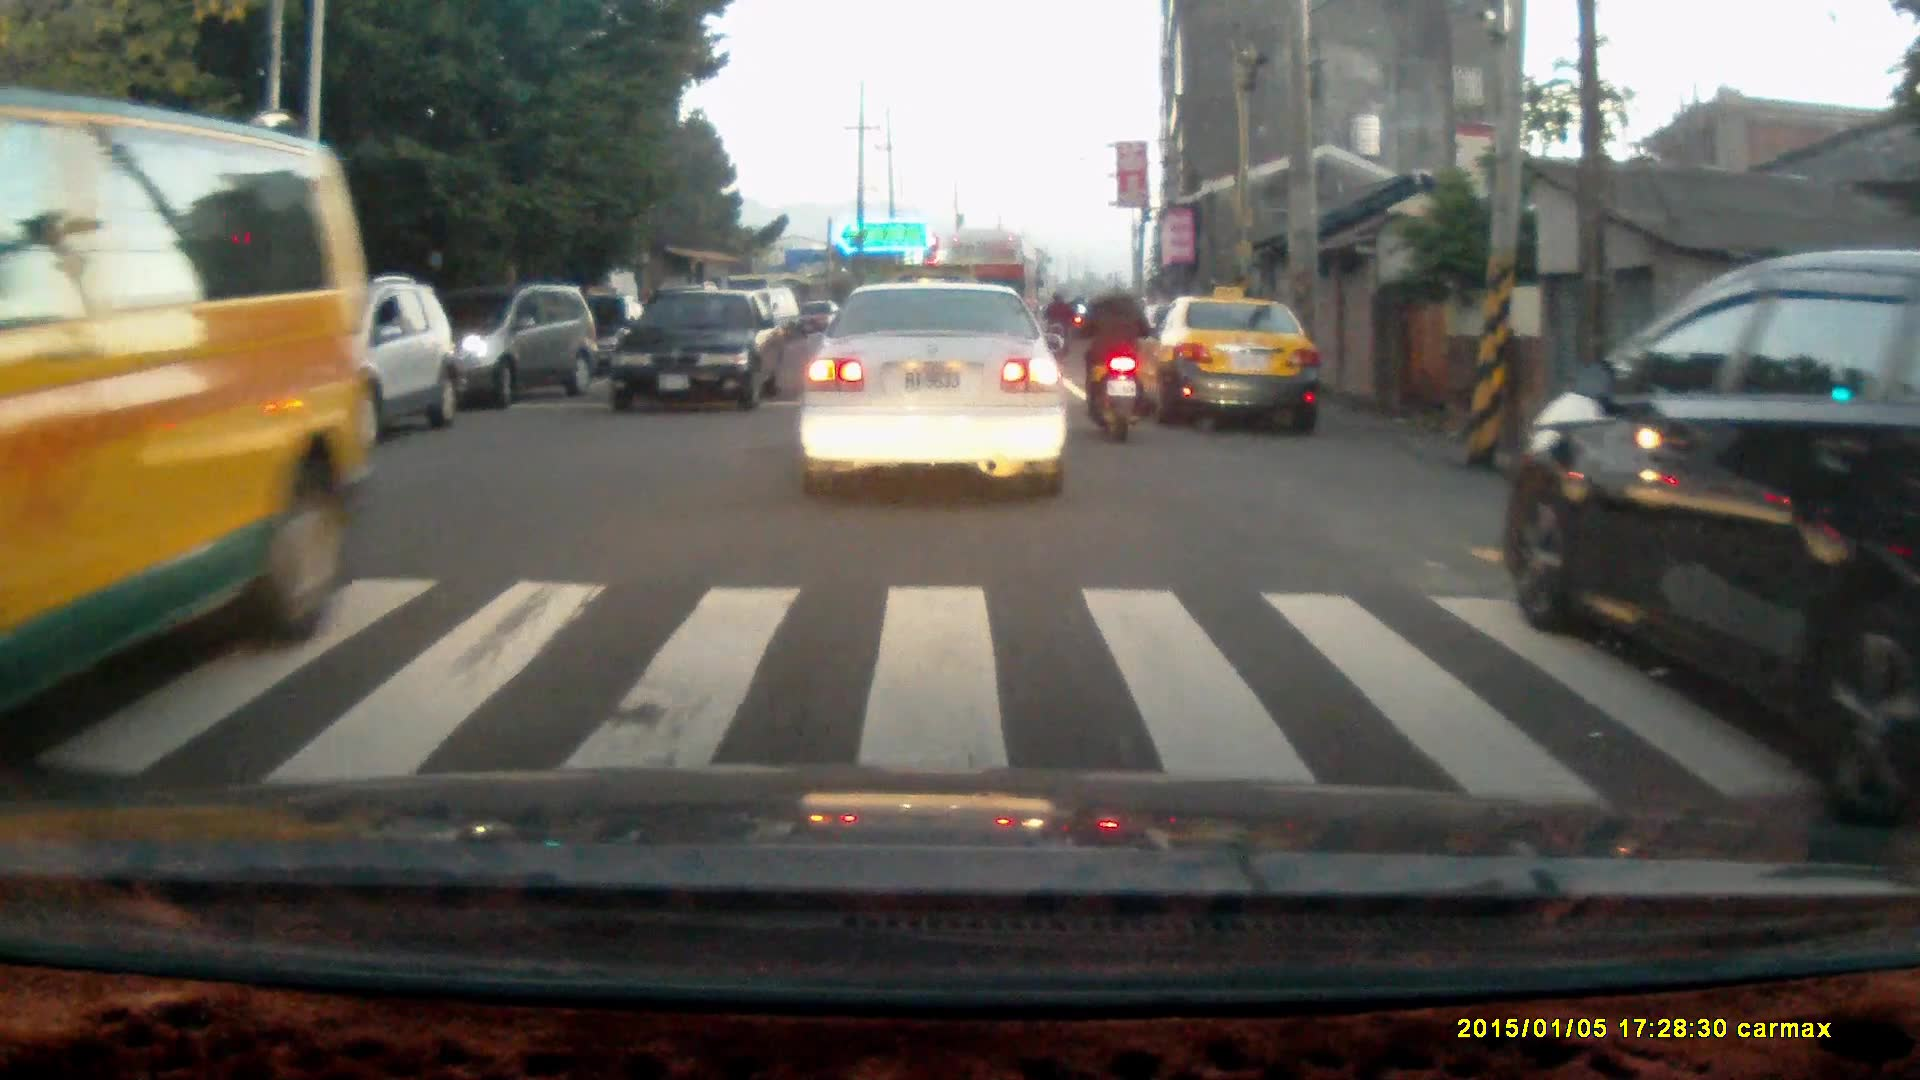rider: (1075, 270, 1156, 446)
vehicle: (8, 84, 368, 726), (1519, 256, 1920, 758), (799, 279, 1075, 502), (1140, 295, 1321, 432), (606, 286, 788, 418)
